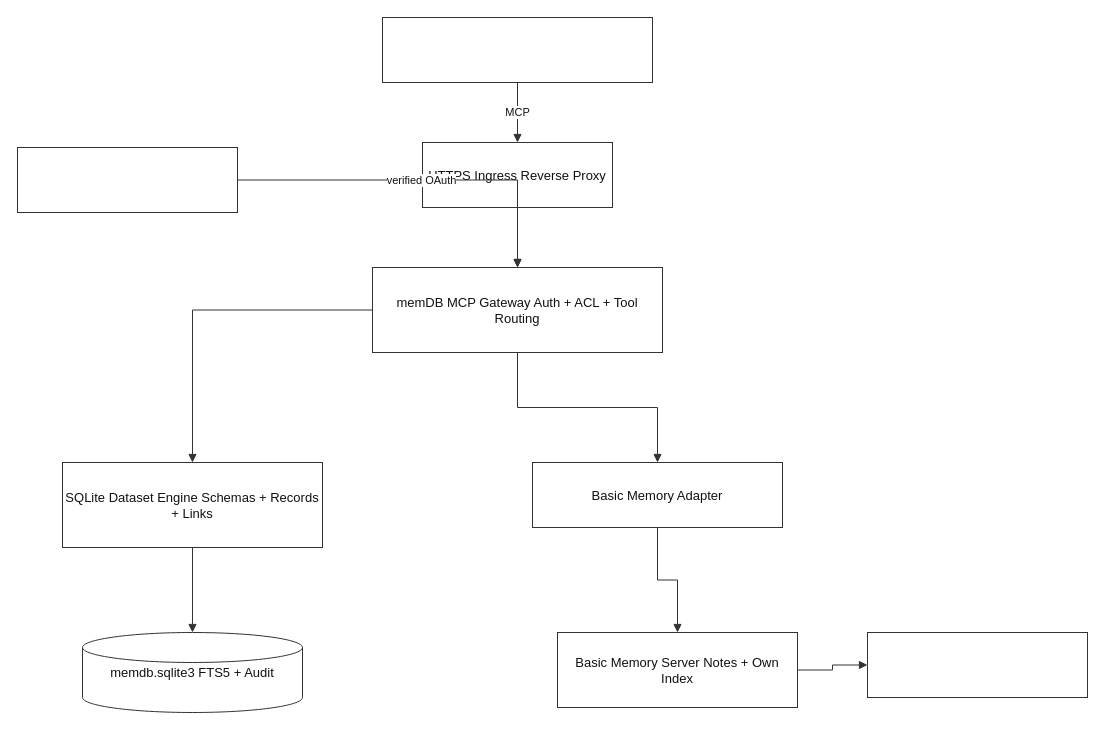
Some shapes in this 1105 by 730 pixel diagram are drawn without their labels. Each missing label, with the box of its shape:
ChatGPT / Codex / MCP Clients: (382, 16, 652, 82)
Markdown Vault: (866, 632, 1088, 698)
Pocket ID OIDC Identity: (16, 146, 238, 212)
